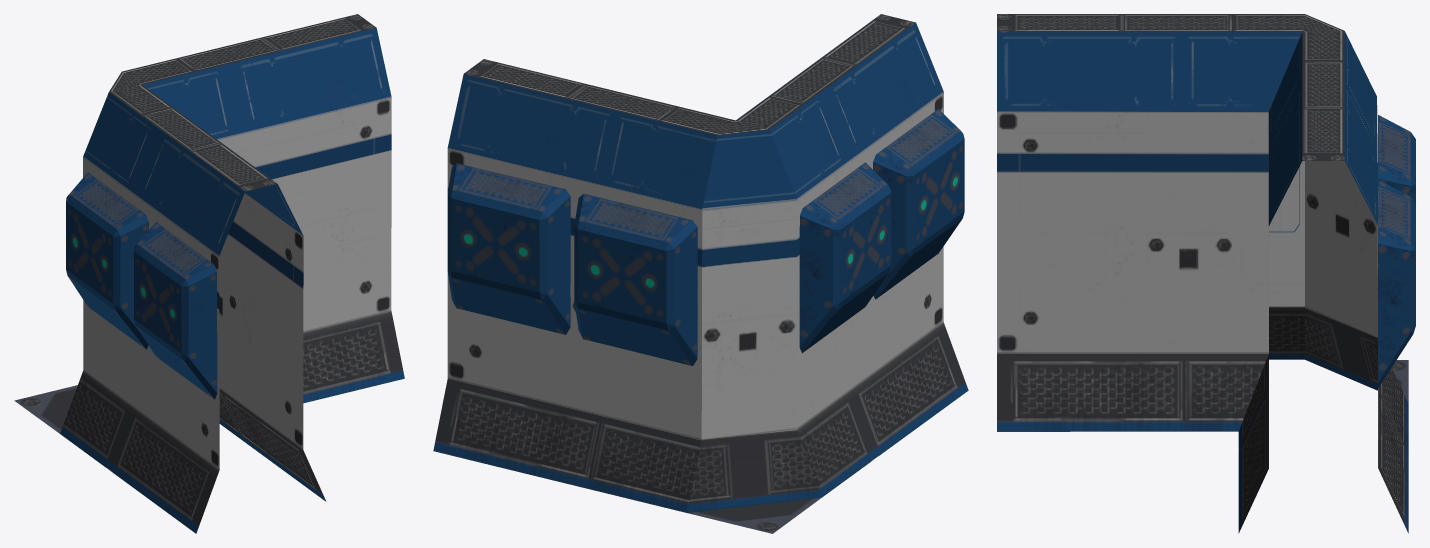
File: Wall_angle_9_Sci_Fi.fbx
3 renders of one model, left to right at view 1: azimuth 30°, elevation 25°; view 2: azimuth 150°, elevation 25°; view 3: azimuth 270°, elevation 25°, orthographic. The views are drawn at different scales.
Parts seen in each view (by area): view 1: Wall_angle_9_Sci_Fi; view 2: Wall_angle_9_Sci_Fi; view 3: Wall_angle_9_Sci_Fi.
Part boxes in pixels (x1,y1,x2,y2): Wall_angle_9_Sci_Fi: (14,14,404,533); Wall_angle_9_Sci_Fi: (433,14,968,533); Wall_angle_9_Sci_Fi: (997,14,1415,533).
Size of the model in its own units: 402 by 395 by 402.
